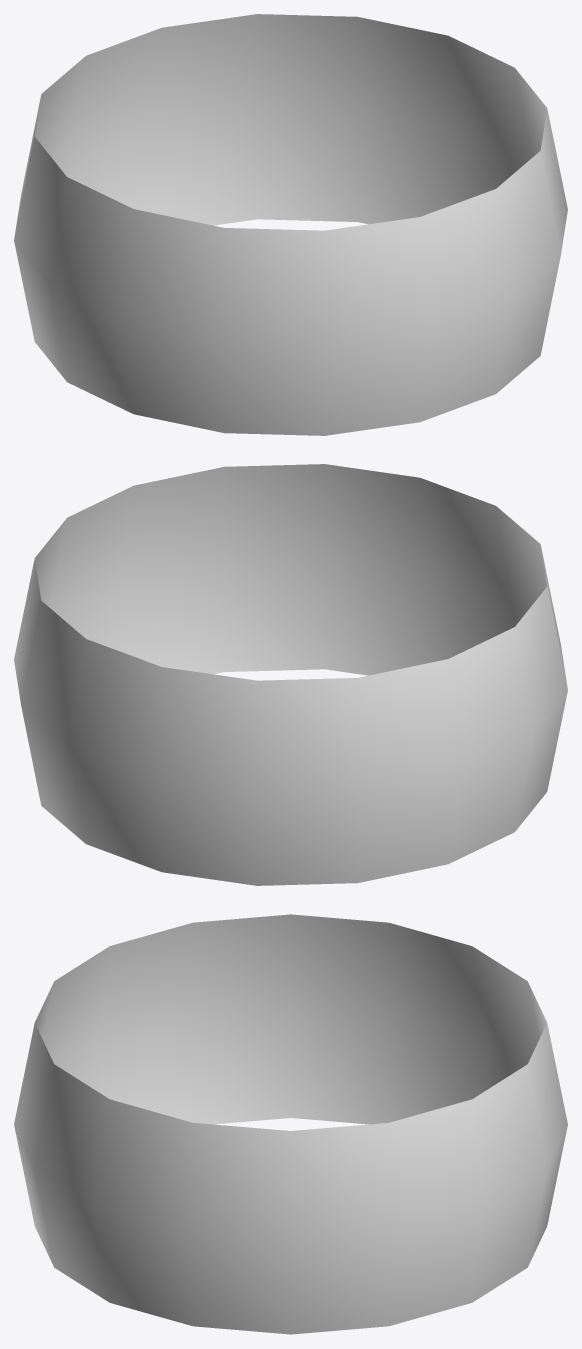
File: yun_1.FBX
3 views of the same model, one above another, from view 1: azimuth 30°, elevation 25°; view 2: azimuth 150°, elevation 25°; view 3: azimuth 270°, elevation 25° (orthographic).
Visible parts, largest first — view 1: yun_1; view 2: yun_1; view 3: yun_1.
Part boxes in pixels (x1=…): yun_1: x1=14, y1=14, x2=567, y2=435; yun_1: x1=14, y1=464, x2=567, y2=885; yun_1: x1=14, y1=914, x2=567, y2=1334.
Bounding box in the file's own units: 22156 × 8982 × 22156.
